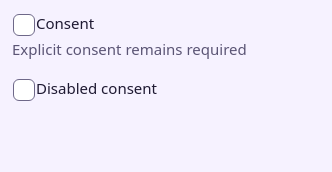
Scenario: styled checkbox retains label, Space, description and disabled consent semantics
Later steps or results of the test are not shown.
Press Tab
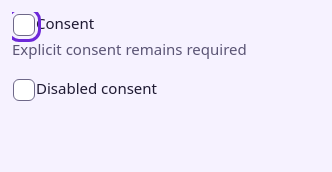
Type keys " "
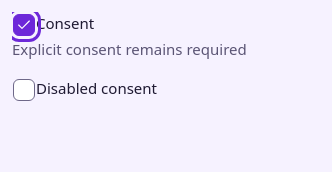
expect the checkbox labelled "Consent" is checked: met, box [13,14,35,36]
Click the text "Consent" at (53, 23), box [12,13,94,33]
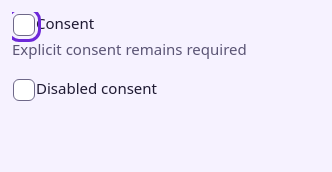
expect the checkbox labelled "Consent" is not checked: met, box [13,14,35,36]
